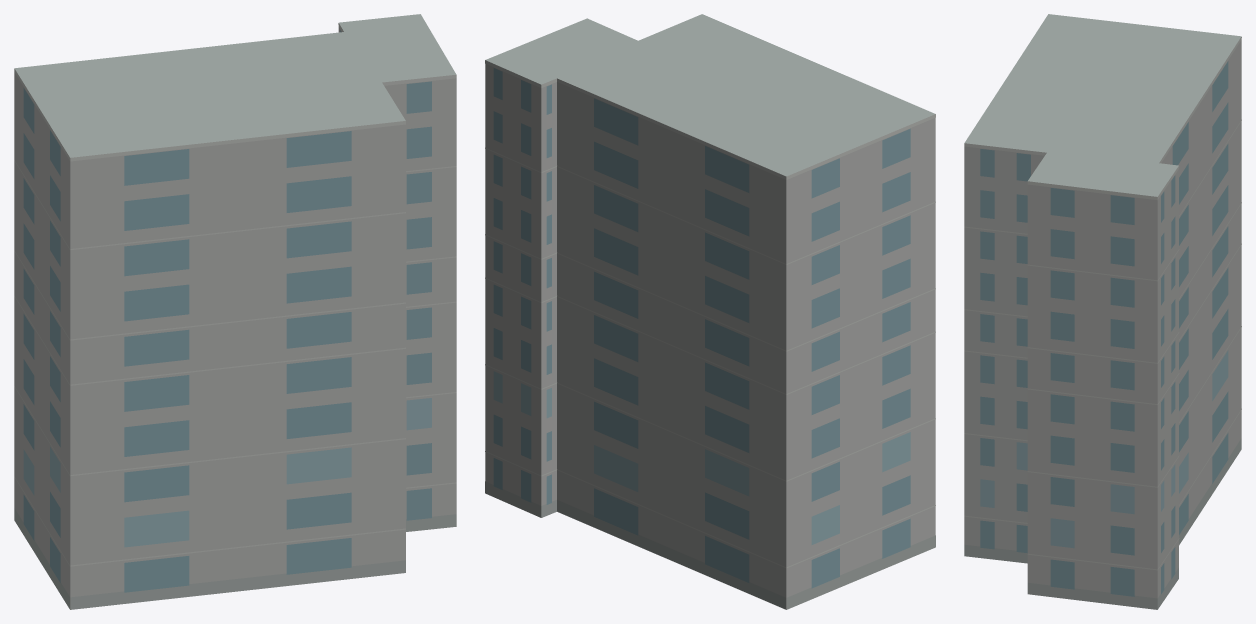
File: survey-upis-32507838.glb
3 renders of one model, left to right at view 1: azimuth 30°, elevation 25°; view 2: azimuth 150°, elevation 25°; view 3: azimuth 270°, elevation 25°, orthographic. The views are drawn at different scales.
Parts seen in each view (by area): view 1: survey-upis-32507838.tmp; view 2: survey-upis-32507838.tmp; view 3: survey-upis-32507838.tmp.
Part boxes in pixels (bbox=[...]): survey-upis-32507838.tmp: bbox=[14, 14, 456, 609]; survey-upis-32507838.tmp: bbox=[485, 14, 935, 609]; survey-upis-32507838.tmp: bbox=[964, 14, 1241, 609].
Bounding box in the file's own units: 29 × 30.5 × 18.59.
